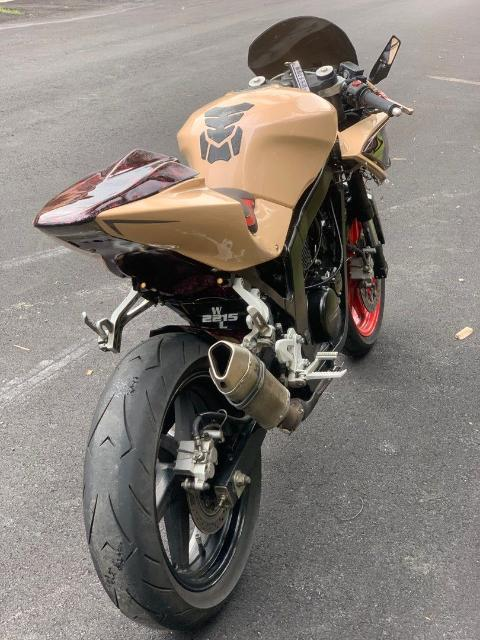License_Plate: (190, 298, 245, 338)
motorcycle: (34, 17, 415, 634)
